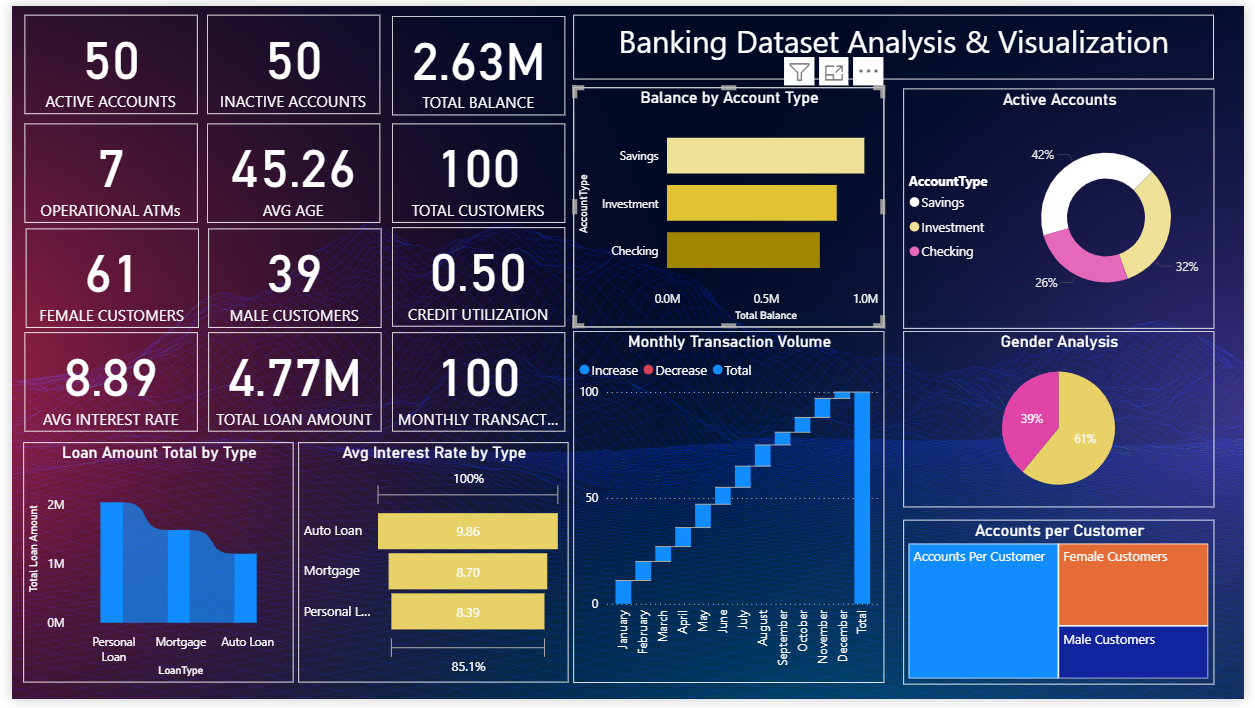

The page's visual inventory and layout, read from the dashboard file:
{"tool":"powerbi","page":{"name":"Visualization 1","canvas":[1280,720],"ordinal":0},"visuals":[{"type":"textbox","box":[582.7,9.7,666,67.6],"z":0},{"type":"card","fields":{"Values":["Accounts.Total Balance"]},"box":[395,10,180,103.3],"z":1000},{"type":"card","fields":{"Values":["Accounts.Inactive Accounts"]},"box":[203.1,9.6,179.8,102.9],"z":2000},{"type":"card","fields":{"Values":["Accounts.Active Accounts"]},"box":[12.3,9.6,179.8,102.9],"z":3000},{"type":"card","fields":{"Values":["ATMs.ATMs Operational"]},"box":[12.3,122.1,179.8,102.9],"z":4000},{"type":"card","fields":{"Values":["Customers.Average Age"]},"box":[203.1,122.1,179.8,102.9],"z":5000},{"type":"card","fields":{"Values":["Customers.Customer Count"]},"box":[395,121.7,180,103.3],"z":6000},{"type":"card","fields":{"Values":["Customers.Female Customers"]},"box":[13.7,230.5,179.8,102.9],"z":7000},{"type":"card","fields":{"Values":["Customers.Male Customers"]},"box":[204.5,230.5,179.8,102.9],"z":8000},{"type":"card","fields":{"Values":["CreditCards.Credit Utilization"]},"box":[395,230,180,103.3],"z":9000},{"type":"card","fields":{"Values":["Loans.Average Interest Rate"]},"box":[13.3,338.3,180,103.3],"z":10000},{"type":"card","fields":{"Values":["Loans.Total Loan Amount"]},"box":[203.3,338.3,180,103.3],"z":11000},{"type":"card","fields":{"Values":["Transactions.Monthly Transaction Volume"]},"box":[395,338.3,180,103.3],"z":12000},{"type":"barChart","title":"Balance by Account Type","fields":{"Y":["Accounts.Total Balance"],"Category":["Accounts.AccountType"]},"box":[582.7,84.5,323.3,249.7],"z":13000},{"type":"donutChart","title":"Active Accounts","fields":{"Y":["Accounts.Active Accounts"],"Category":["Accounts.AccountType"]},"box":[925.3,85.7,323.3,249.7],"z":14000},{"type":"ribbonChart","title":"Loan Amount Total by Type","fields":{"Y":["Loans.Total Loan Amount"],"Category":["Loans.LoanType"]},"box":[12.1,453.6,281.1,249.7],"z":15000},{"type":"funnel","title":"Avg Interest Rate by Type","fields":{"Category":["Loans.LoanType"],"Y":["Loans.Average Interest Rate"]},"box":[296.8,453.6,281.1,249.7],"z":16000},{"type":"waterfallChart","title":"Monthly Transaction Volume","fields":{"Y":["Transactions.Monthly Transaction Volume"],"Category":["Date.Date.Variation.Date Hierarchy.Month"]},"box":[582.7,337.8,323.3,365.6],"z":17000},{"type":"pieChart","title":"Gender Analysis","fields":{"Y":["Customers.Customer Count"],"Category":["Customers.Gender"]},"box":[925.3,337.8,323.3,183.4],"z":18000},{"type":"treemap","title":"Accounts per Customer","fields":{"Values":["Accounts.Accounts Per Customer","Customers.Male Customers","Customers.Female Customers"]},"box":[925.3,533.2,323.3,171.3],"z":19000}]}

Visuals, with their boxes in screenshot pixels (x1, y1, x2, y2), scaled from the page's 1280x720 canvas onto the 1255x708 screenshot:
textbox: <box>571,10,1224,76</box>
card - Accounts.Total Balance: <box>387,10,564,111</box>
card - Accounts.Inactive Accounts: <box>199,9,375,111</box>
card - Accounts.Active Accounts: <box>12,9,188,111</box>
card - ATMs.ATMs Operational: <box>12,120,188,221</box>
card - Customers.Average Age: <box>199,120,375,221</box>
card - Customers.Customer Count: <box>387,120,564,221</box>
card - Customers.Female Customers: <box>13,227,190,328</box>
card - Customers.Male Customers: <box>201,227,377,328</box>
card - CreditCards.Credit Utilization: <box>387,226,564,328</box>
card - Loans.Average Interest Rate: <box>13,333,190,434</box>
card - Loans.Total Loan Amount: <box>199,333,376,434</box>
card - Transactions.Monthly Transaction Volume: <box>387,333,564,434</box>
"Balance by Account Type" barChart: <box>571,83,888,329</box>
"Active Accounts" donutChart: <box>907,84,1224,330</box>
"Loan Amount Total by Type" ribbonChart: <box>12,446,287,692</box>
"Avg Interest Rate by Type" funnel: <box>291,446,567,692</box>
"Monthly Transaction Volume" waterfallChart: <box>571,332,888,692</box>
"Gender Analysis" pieChart: <box>907,332,1224,513</box>
"Accounts per Customer" treemap: <box>907,524,1224,693</box>
